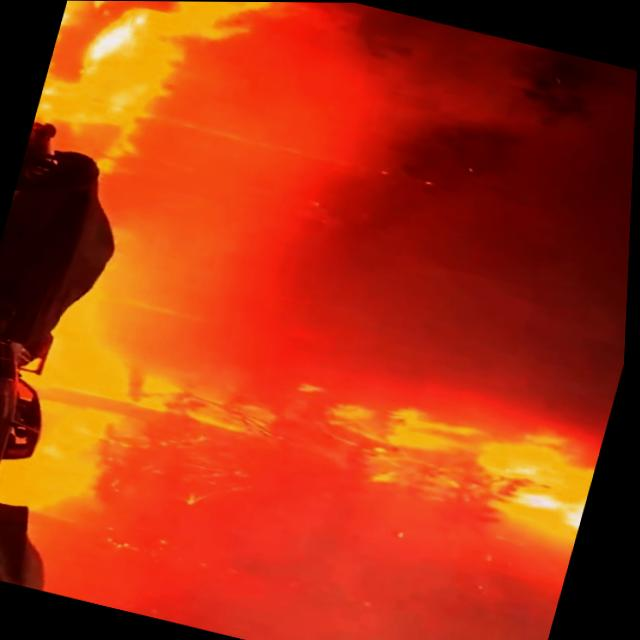fire: (62, 301, 615, 521), (31, 0, 267, 171), (7, 295, 157, 513)
